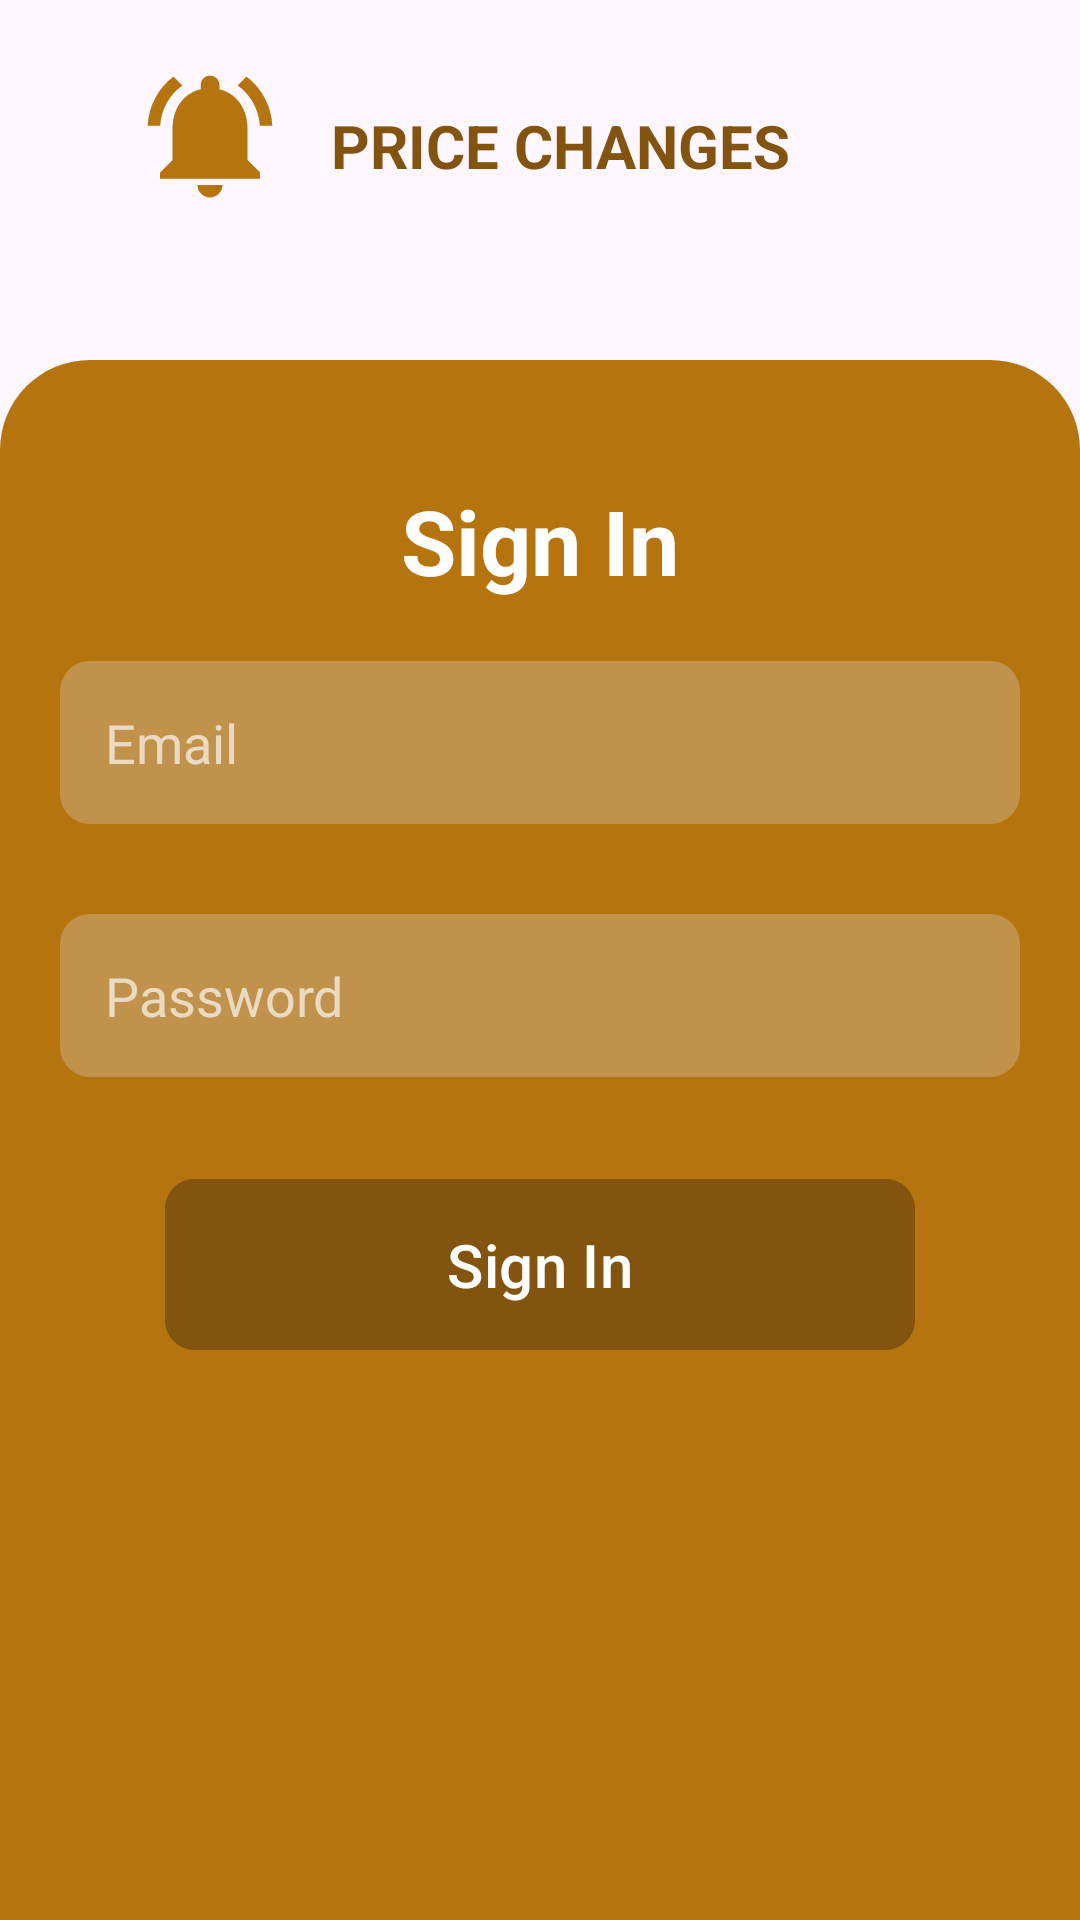

Point at icon controls on the screen. Image size 1080*1920, points as (x=x, y=y).
notifications: (x=210, y=136)
